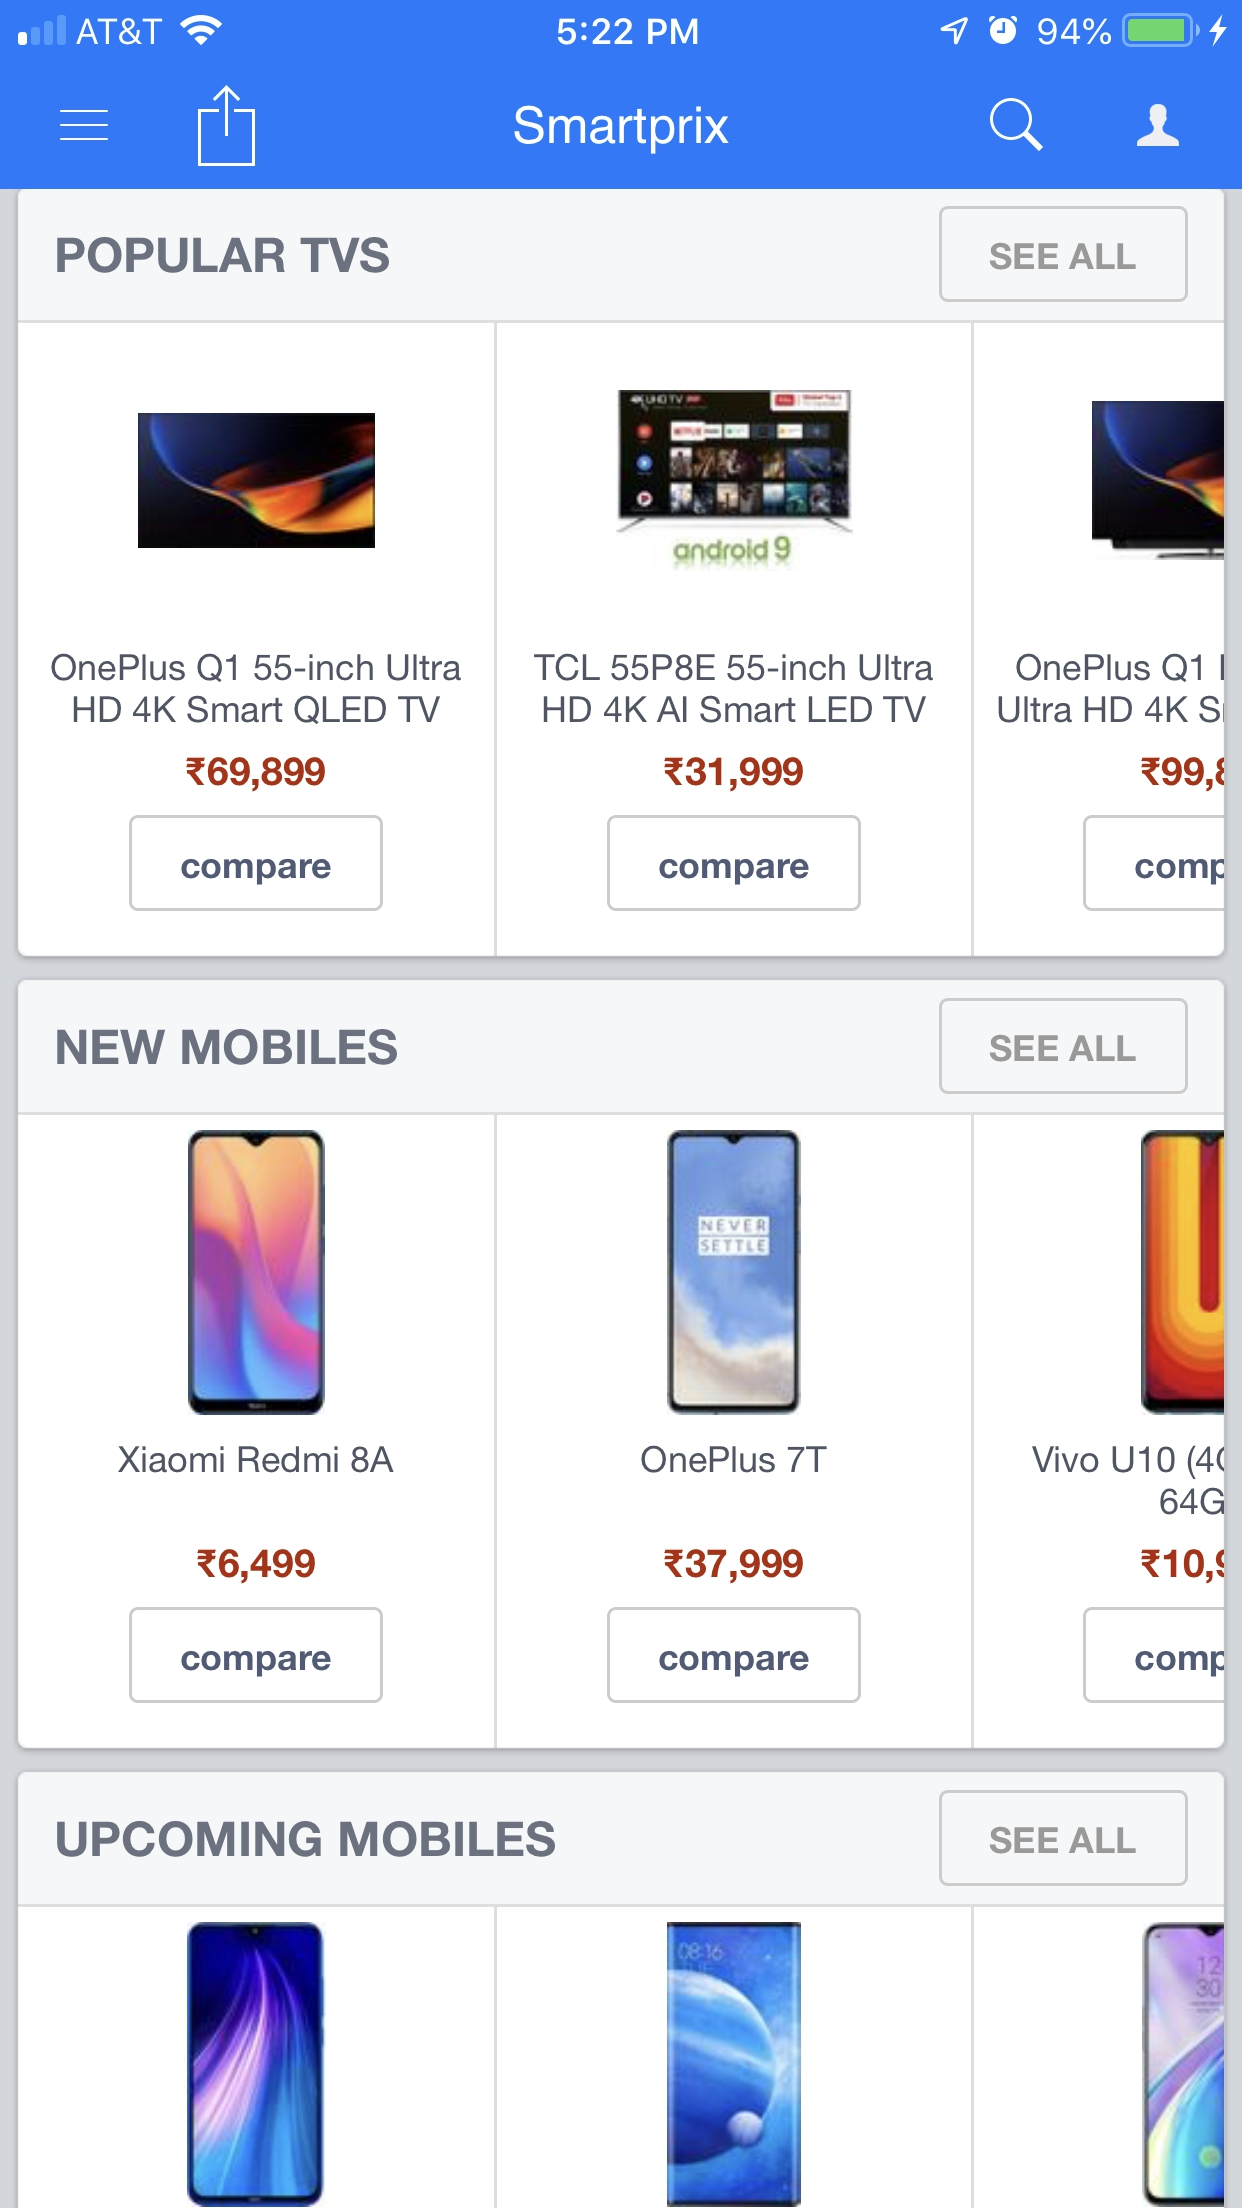Icon: (199, 85, 256, 168), (989, 99, 1043, 153), (1136, 105, 1180, 149), (61, 111, 111, 143)
Image: (187, 1128, 326, 1416), (666, 1128, 802, 1416), (187, 1921, 325, 2205), (666, 1921, 802, 2206), (617, 390, 855, 535), (138, 412, 376, 549), (1140, 1128, 1224, 1416), (1142, 1921, 1225, 2208), (1092, 400, 1225, 561)
Text: (52, 654, 463, 723), (532, 654, 934, 723), (58, 1820, 557, 1858), (998, 654, 1222, 723), (1033, 1445, 1224, 1516), (58, 237, 391, 274), (56, 1028, 397, 1065), (514, 106, 729, 156), (118, 1445, 394, 1474), (641, 1445, 828, 1474), (187, 757, 328, 793), (663, 757, 804, 793), (664, 1548, 805, 1585), (197, 1547, 317, 1585), (673, 535, 792, 563), (1140, 1548, 1225, 1585), (1140, 757, 1224, 793)
TextButton: (129, 814, 385, 913), (129, 1606, 384, 1705), (607, 1606, 861, 1705), (607, 814, 861, 911), (939, 996, 1189, 1095), (939, 1789, 1189, 1887), (939, 206, 1187, 303), (1081, 814, 1225, 913), (1083, 1607, 1225, 1705)
UpperTaskBar: (2, 2, 1242, 49)
